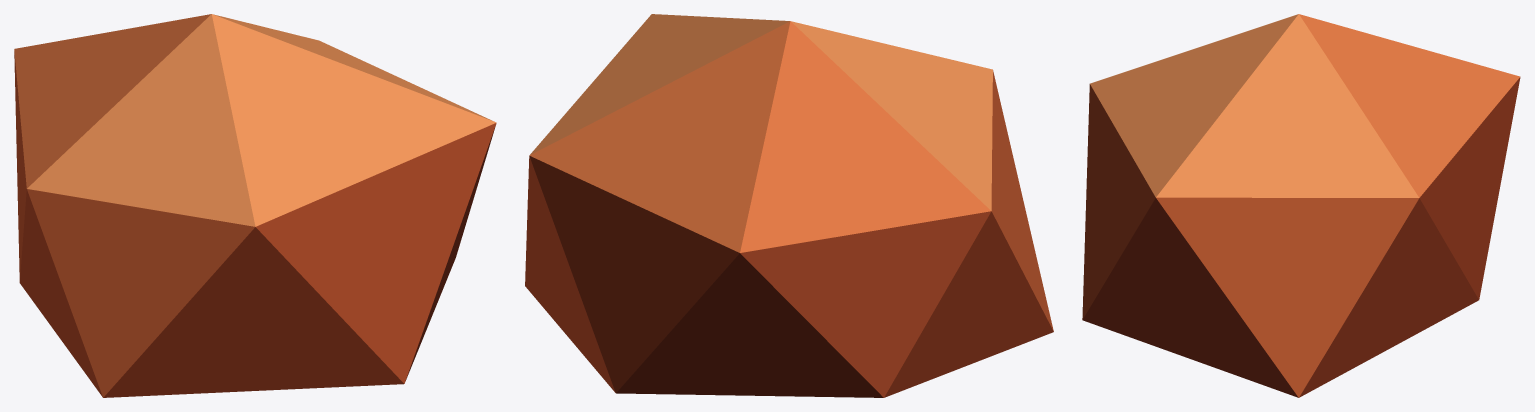
The model's file is SM_ROCK_S_01.fbx.
3 renders of one model, left to right at view 1: azimuth 30°, elevation 25°; view 2: azimuth 150°, elevation 25°; view 3: azimuth 270°, elevation 25°, orthographic. The views are drawn at different scales.
Parts seen in each view (by area): view 1: ROCK_S_01; view 2: ROCK_S_01; view 3: ROCK_S_01.
Part boxes in pixels (left/top/right/bottom): ROCK_S_01: left=14, top=14, right=496, bottom=397; ROCK_S_01: left=525, top=14, right=1053, bottom=397; ROCK_S_01: left=1082, top=14, right=1520, bottom=397.
Bounding box in the file's own units: 0.6917 × 0.6729 × 0.4905.
